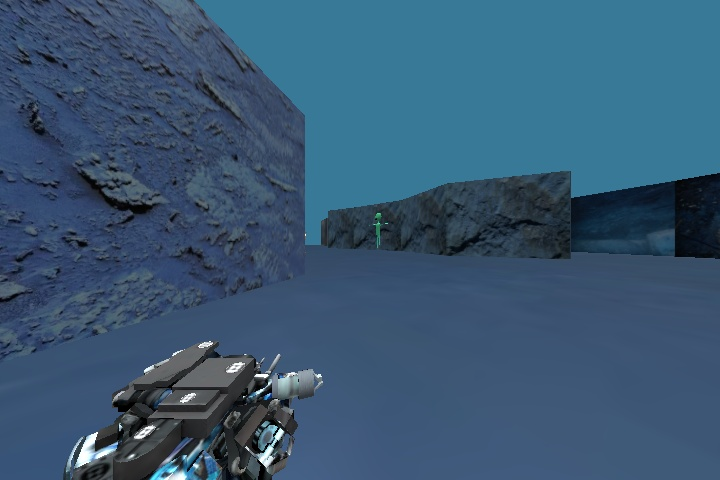green_alien: (363, 207, 388, 249)
